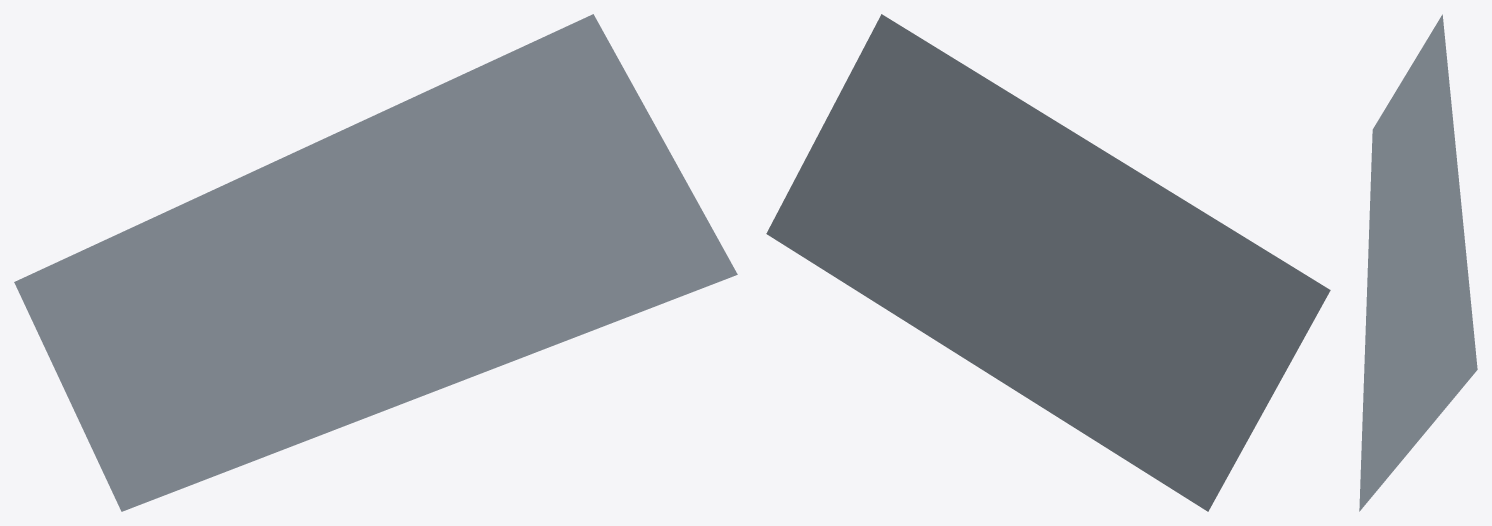
File: pisohamate-ligament-r.glb
3 renders of one model, left to right at view 1: azimuth 30°, elevation 25°; view 2: azimuth 150°, elevation 25°; view 3: azimuth 270°, elevation 25°, orthographic. The views are drawn at different scales.
Parts seen in each view (by area): view 1: Pisohamate ligament.r; view 2: Pisohamate ligament.r; view 3: Pisohamate ligament.r.
Boxes of the visible parts, left/top/right/bottom form: Pisohamate ligament.r: left=14, top=14, right=737, bottom=511; Pisohamate ligament.r: left=766, top=14, right=1330, bottom=511; Pisohamate ligament.r: left=1359, top=14, right=1477, bottom=511.
Size of the model in its own units: 0.00495 by 0.00298 by 0.000692.
